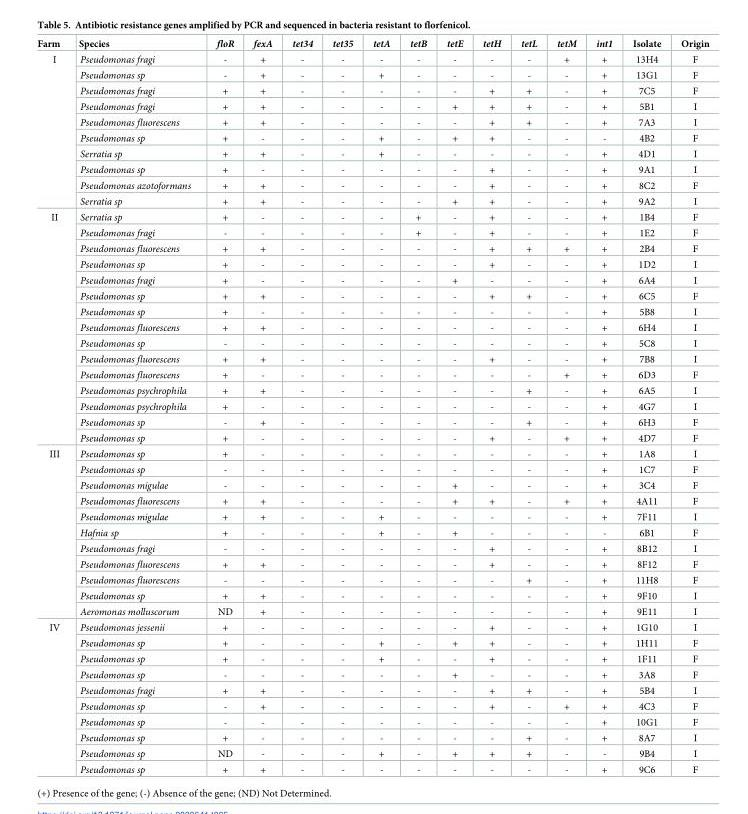table: (36, 36, 708, 775)
table column: (68, 36, 203, 775), (621, 36, 670, 775), (321, 36, 362, 775), (203, 36, 243, 775), (281, 36, 321, 775), (546, 36, 585, 775), (243, 36, 281, 775), (472, 36, 510, 775), (670, 36, 708, 775), (362, 36, 399, 775), (399, 36, 436, 775), (436, 36, 472, 775), (510, 36, 546, 775), (585, 36, 621, 775), (36, 36, 68, 775)
table column header: (36, 36, 708, 50)
table row: (36, 50, 708, 66), (36, 66, 708, 82), (36, 82, 708, 98), (36, 98, 708, 114), (36, 129, 708, 145), (36, 145, 708, 161), (36, 161, 708, 177), (36, 192, 708, 208), (36, 208, 708, 224), (36, 224, 708, 240), (36, 240, 708, 256), (36, 271, 708, 287), (36, 287, 708, 303), (36, 303, 708, 319), (36, 319, 708, 335), (36, 350, 708, 366), (36, 366, 708, 382), (36, 382, 708, 398), (36, 413, 708, 429), (36, 429, 708, 445), (36, 445, 708, 461), (36, 461, 708, 477), (36, 492, 708, 508), (36, 508, 708, 524), (36, 524, 708, 540), (36, 540, 708, 556), (36, 571, 708, 587), (36, 587, 708, 603), (36, 603, 708, 619), (36, 634, 708, 650), (36, 650, 708, 666), (36, 666, 708, 682), (36, 682, 708, 698), (36, 713, 708, 729), (36, 729, 708, 745), (36, 745, 708, 761), (36, 114, 708, 129), (36, 177, 708, 192), (36, 256, 708, 271), (36, 335, 708, 350), (36, 398, 708, 413), (36, 477, 708, 492), (36, 556, 708, 571), (36, 619, 708, 634), (36, 698, 708, 713), (36, 36, 708, 50), (36, 761, 708, 775)
table spanning cell: (36, 208, 68, 445), (36, 445, 68, 619), (36, 50, 68, 208), (36, 619, 68, 775)
